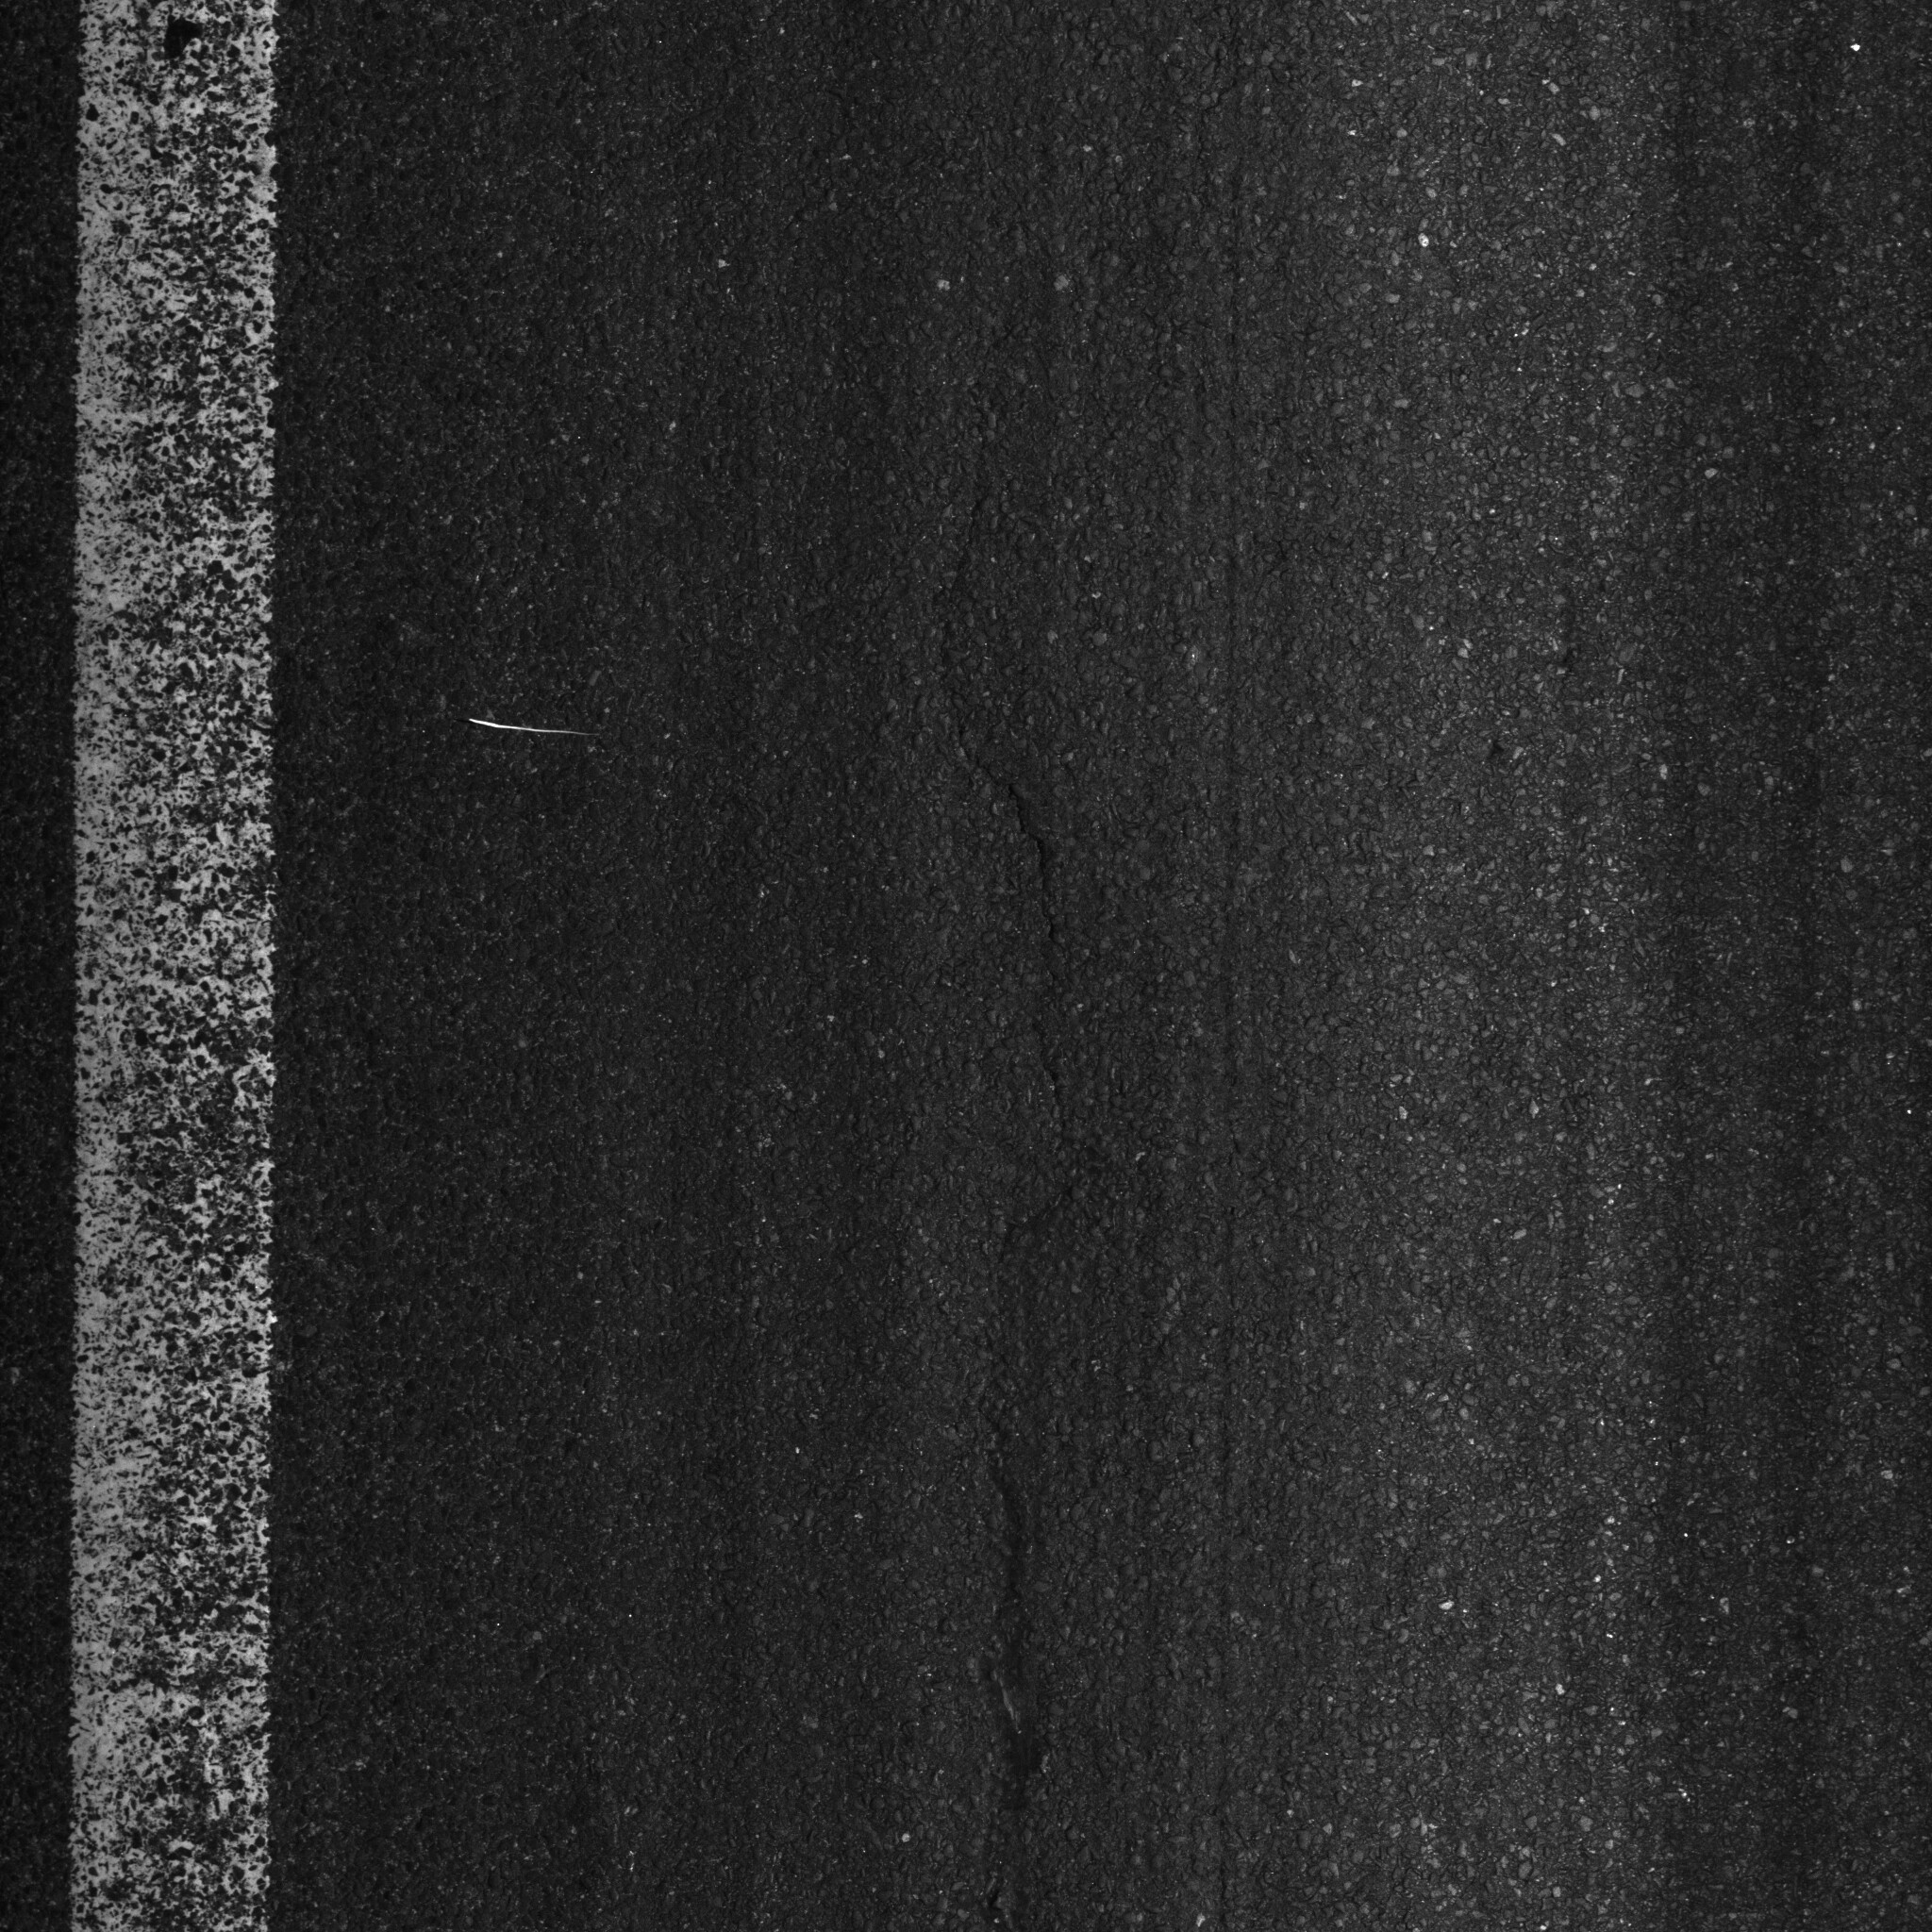longitudinal: (893, 327, 1111, 1932)
